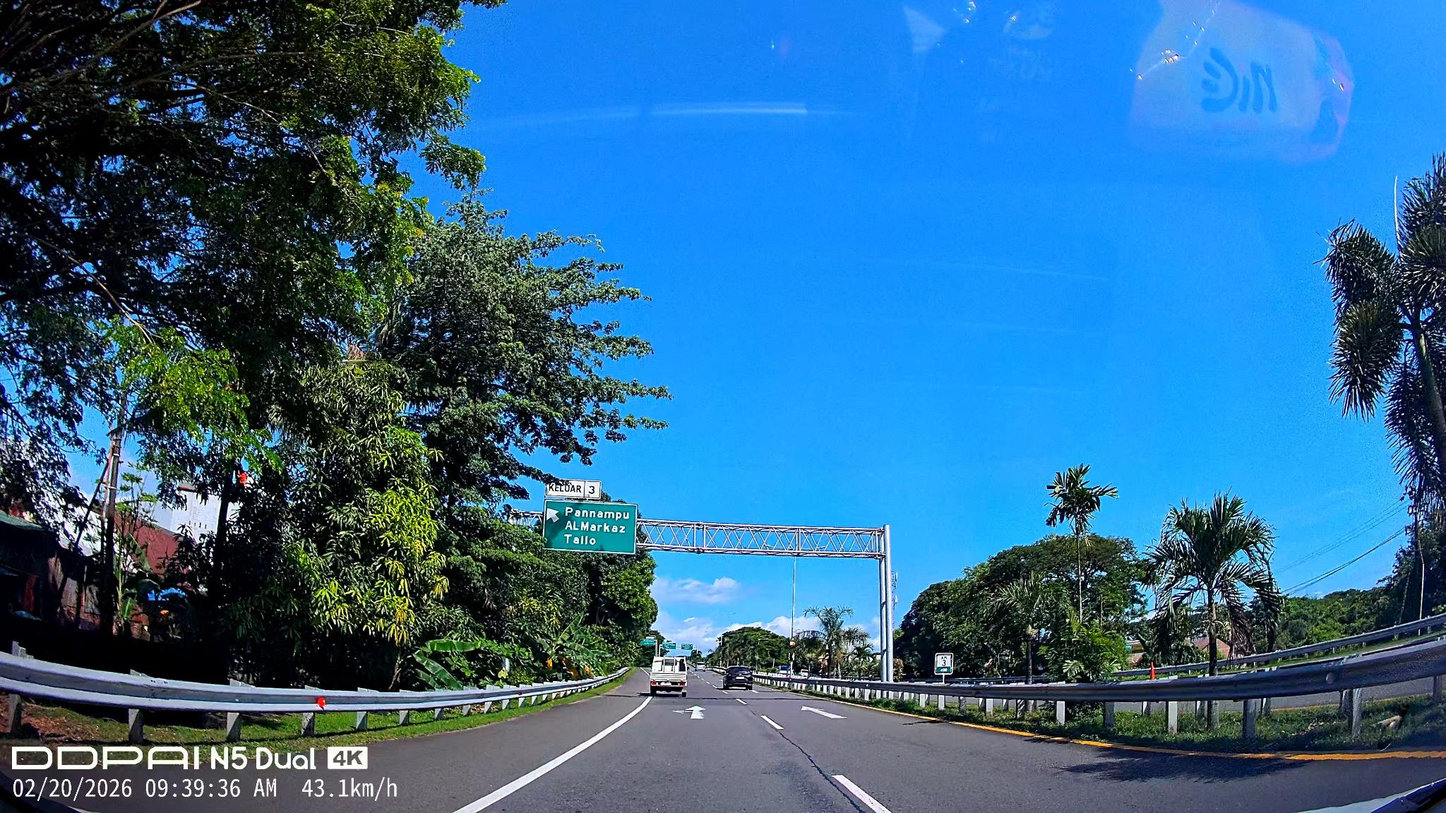rambu_teks: (544, 503, 637, 551)
